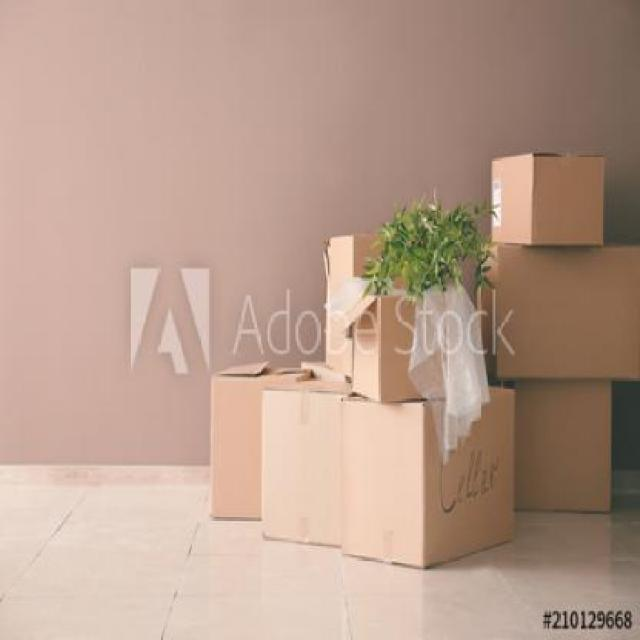box: (340, 386, 518, 568), (477, 237, 640, 380), (208, 364, 316, 520), (501, 376, 619, 518), (264, 381, 364, 546), (328, 236, 412, 382), (492, 146, 608, 250), (353, 283, 431, 403)
